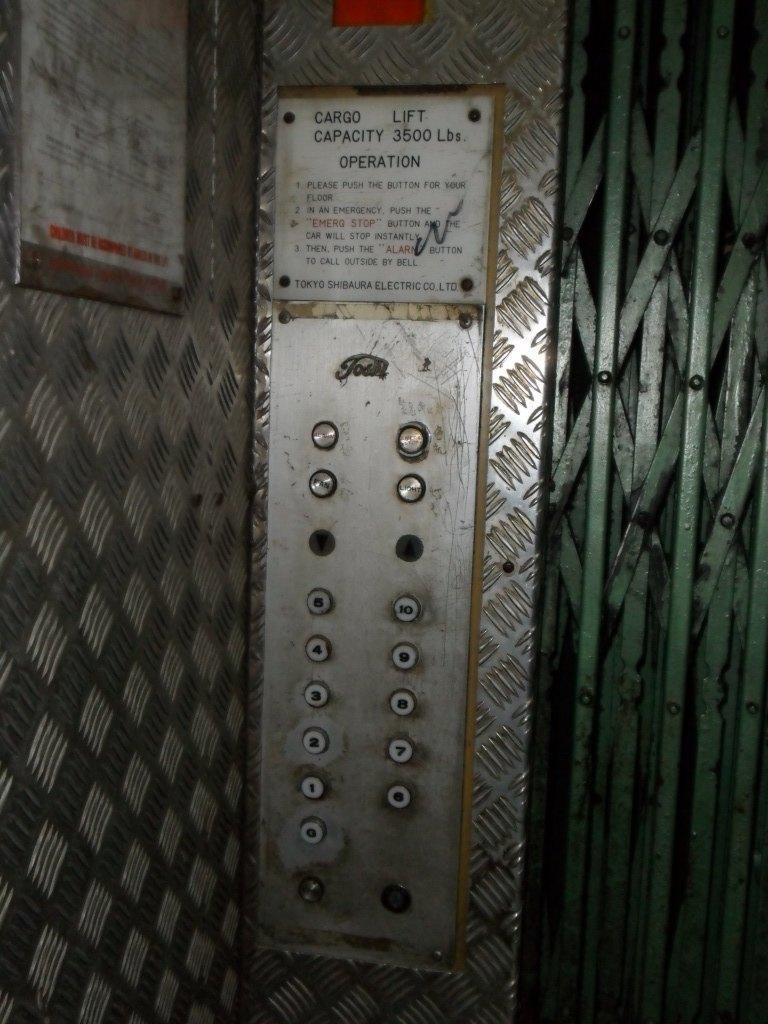1: (299, 772, 326, 799)
10: (391, 593, 421, 623)
2: (300, 724, 328, 754)
3: (302, 679, 329, 708)
4: (303, 632, 332, 663)
5: (304, 585, 333, 615)
6: (383, 781, 413, 810)
7: (386, 736, 414, 764)
8: (387, 686, 417, 717)
9: (388, 639, 420, 671)
G: (297, 814, 326, 846)
blur: (394, 419, 429, 456), (379, 881, 412, 915), (307, 466, 337, 497), (309, 418, 337, 449), (297, 877, 323, 902)
down: (307, 528, 334, 555)
unknown: (395, 471, 424, 501)
up: (394, 534, 422, 560)
